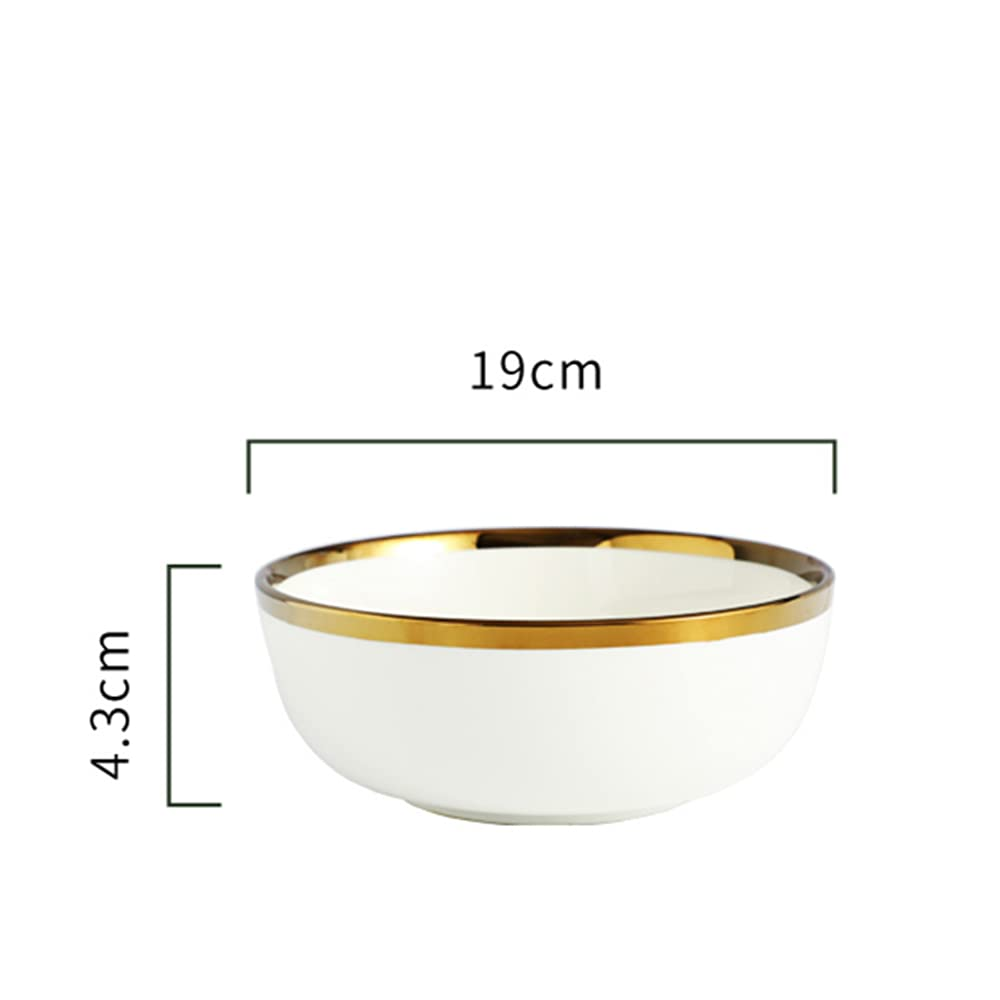19cm: (472, 350, 601, 390)
